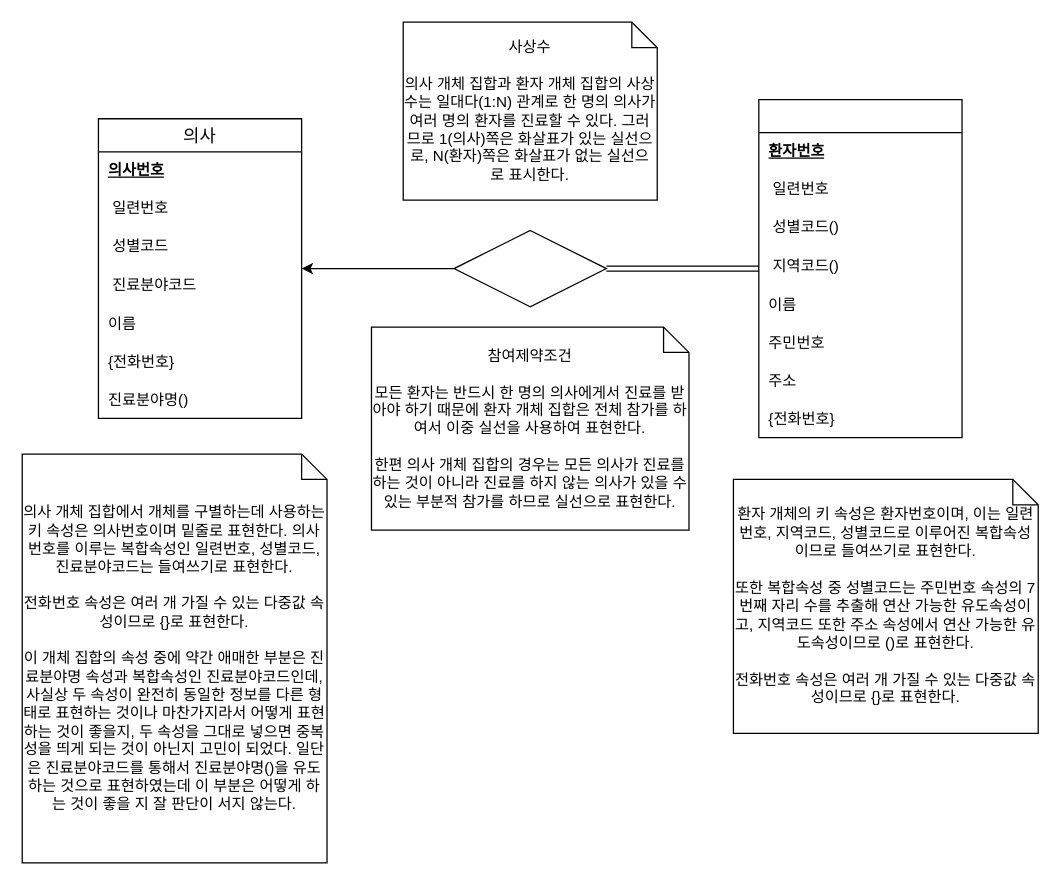
Image size: 1060x885. Some labels were removed from this diagram. The shapes that lost their labels are listed below. From the top down, each one's box as (x1, y1, x2, y2) in pixels, then its label:
(453, 229, 606, 307): 진료
(758, 98, 962, 438): 환자
